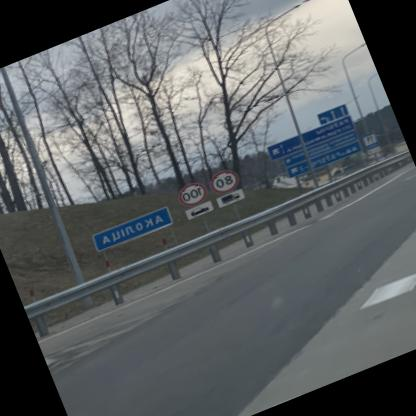speedlimit: (210, 162, 244, 192), (176, 176, 210, 206)
